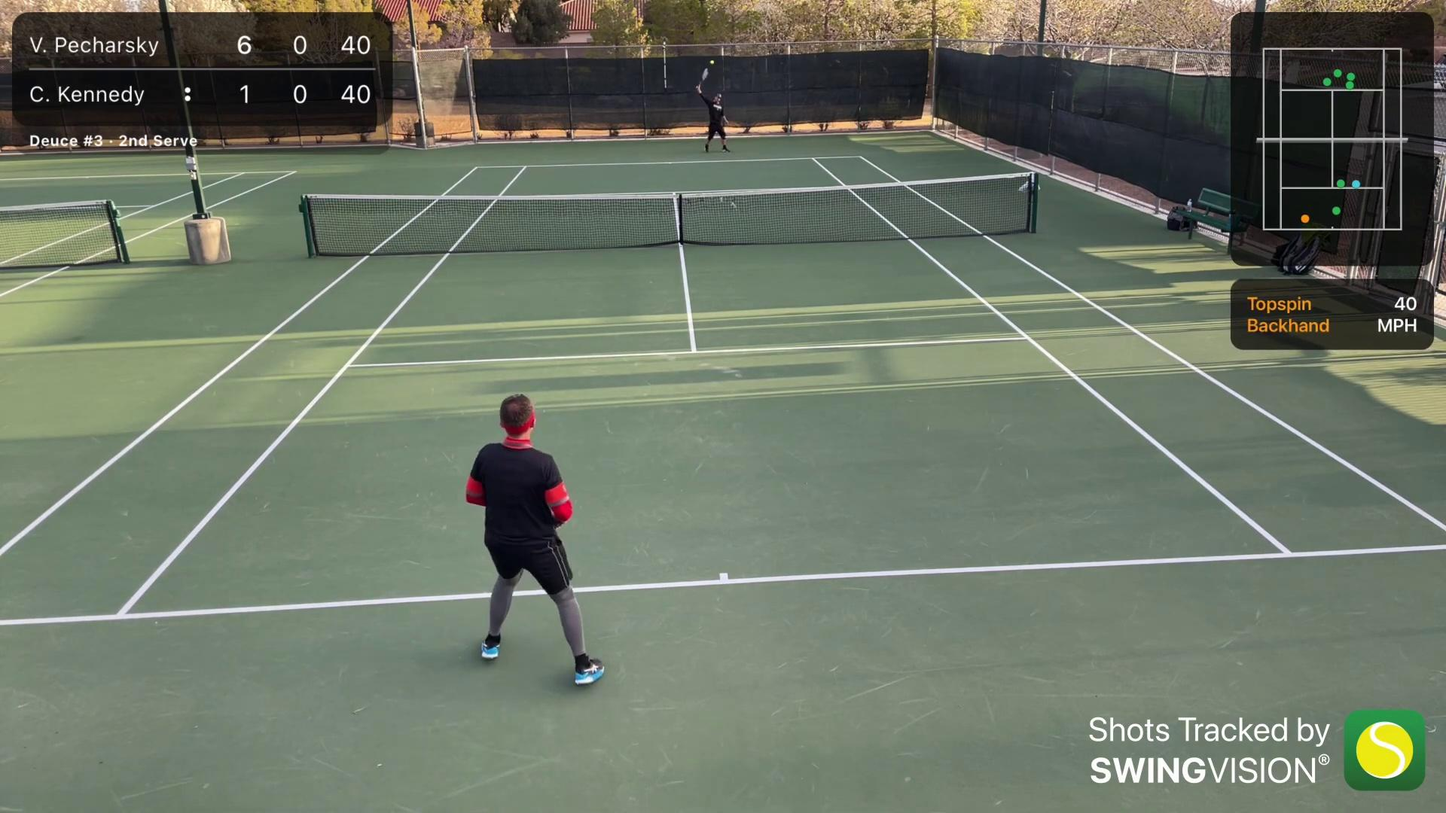ball: (709, 59, 715, 64)
